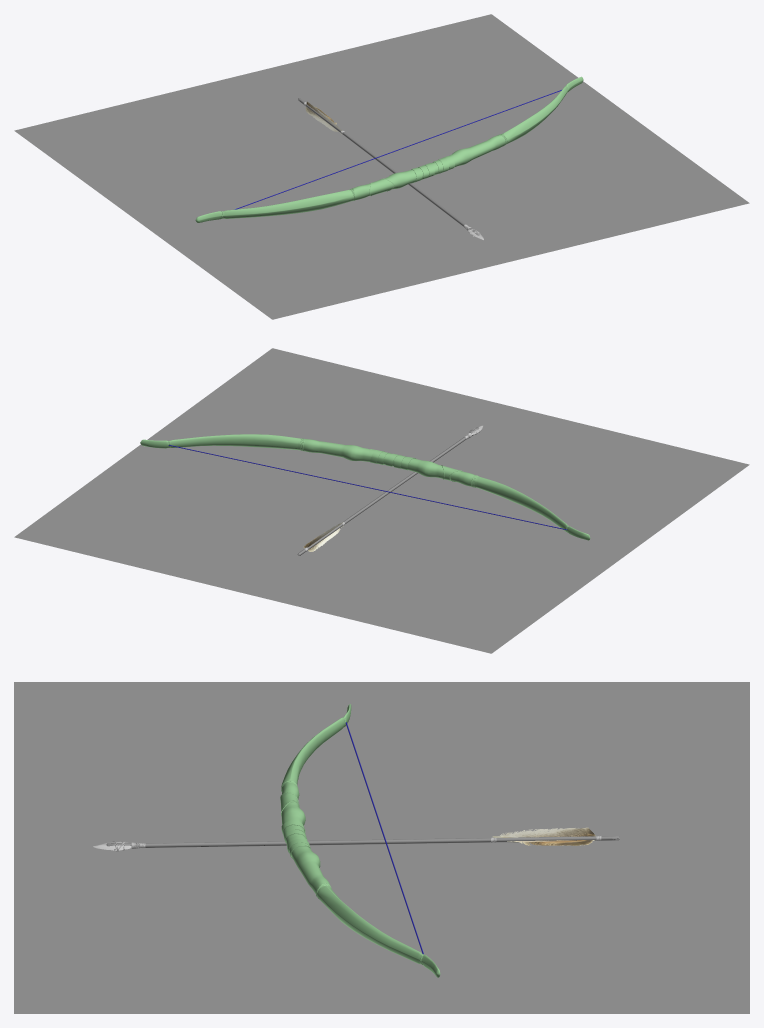
File: Bow.fbx
3 renders of one model, top to bottom at view 1: azimuth 30°, elevation 25°; view 2: azimuth 150°, elevation 25°; view 3: azimuth 270°, elevation 25°, orthographic. The views are drawn at different scales.
Visible parts, largest first — view 1: Plane001, Bow stick, Arrow_LOD0; view 2: Plane001, Bow stick, Arrow_LOD0; view 3: Plane001, Bow stick, Arrow_LOD0.
Part boxes in pixels (x1,y1,x2,y2): Plane001: [14, 14, 749, 319]; Bow stick: [195, 76, 583, 222]; Arrow_LOD0: [298, 98, 483, 239]; Plane001: [14, 348, 749, 653]; Bow stick: [140, 434, 590, 540]; Arrow_LOD0: [297, 425, 482, 555]; Plane001: [14, 682, 749, 1013]; Bow stick: [280, 704, 440, 977]; Arrow_LOD0: [93, 827, 619, 851].
Size of what is drawn, in the model's own units: 172 by 161 by 9.
